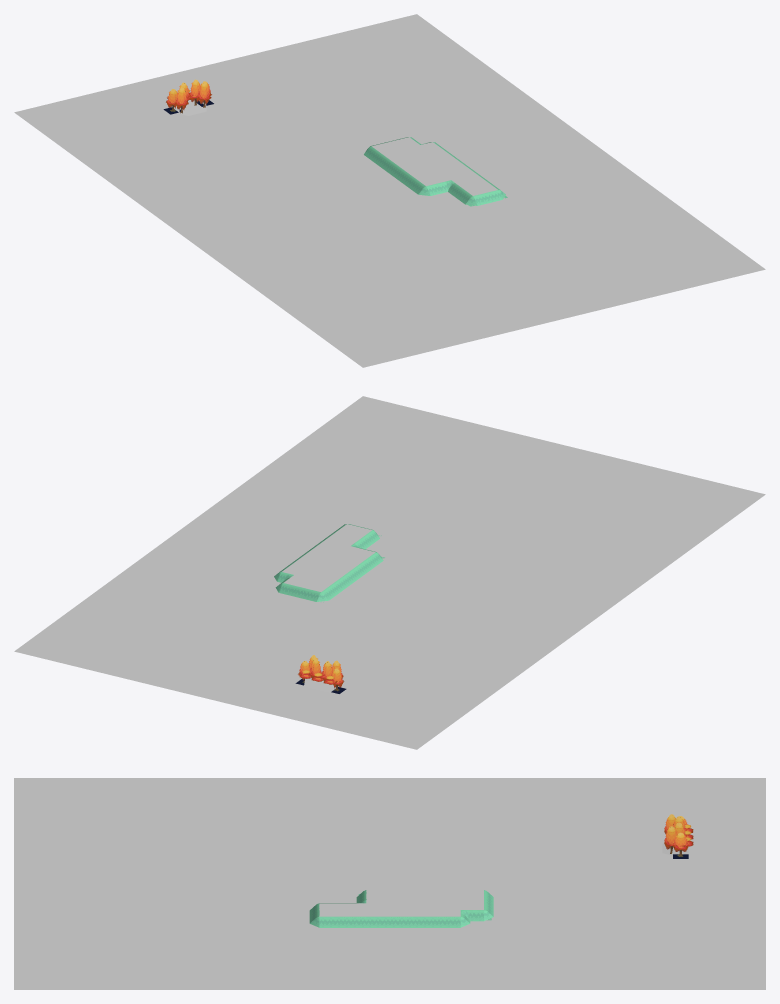
File: GrassRouteDemo.obj
3 views of the same model, one above another, from view 1: azimuth 30°, elevation 25°; view 2: azimuth 150°, elevation 25°; view 3: azimuth 270°, elevation 25° (orthographic). The views are drawn at different scales.
Parts seen in each view (by area): view 1: map.002; view 2: map.002; view 3: map.002.
Part boxes in pixels (x1=…): map.002: x1=14, y1=14, x2=765, y2=367; map.002: x1=14, y1=396, x2=765, y2=749; map.002: x1=14, y1=778, x2=765, y2=989.
Size of the model in its own units: 64 by 4.41 by 96.
